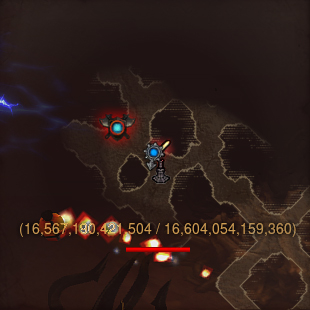PowerPylon: (149, 138, 171, 183)
